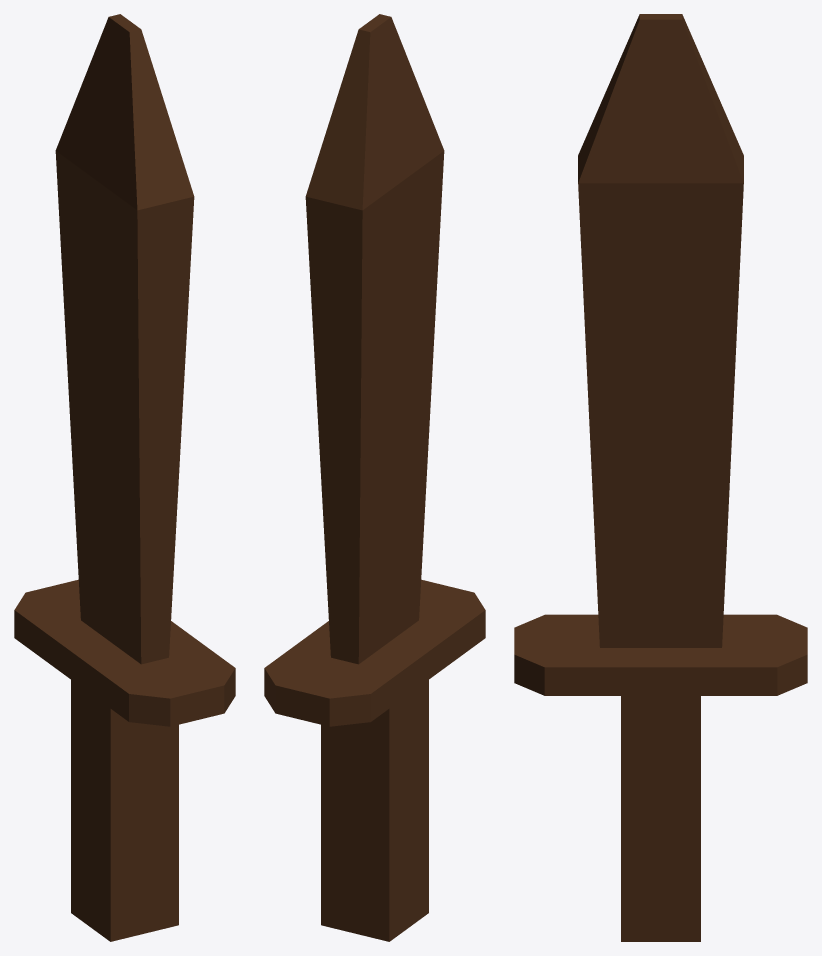
File: wood_sword.glb
3 views of the same model, side by side, from view 1: azimuth 30°, elevation 25°; view 2: azimuth 150°, elevation 25°; view 3: azimuth 270°, elevation 25° (orthographic).
Parts seen in each view (by area): view 1: Cube.001; view 2: Cube.001; view 3: Cube.001.
Boxes of the visible parts, x1,y1,x2,y2 form: Cube.001: (14, 14, 235, 941); Cube.001: (264, 14, 485, 941); Cube.001: (514, 14, 807, 941).
Bounding box in the file's own units: 0.4207 × 3.38 × 0.9912.
